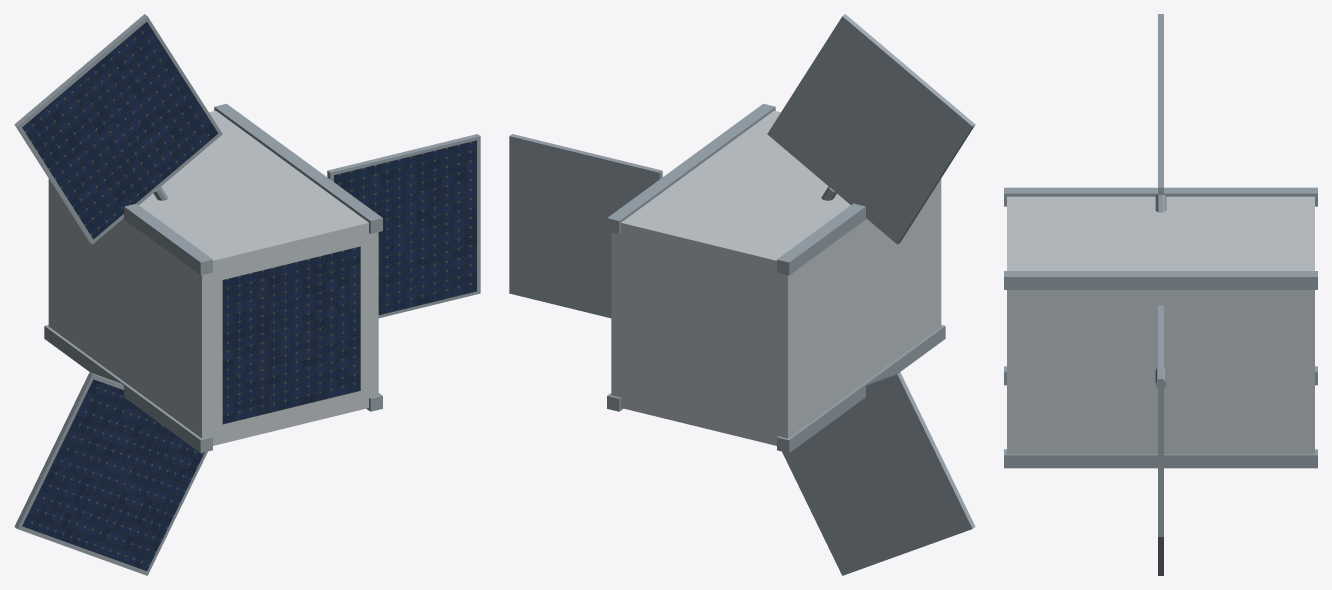
File: ref-cubesat-6u-43764.glb
3 views of the same model, side by side, from view 1: azimuth 30°, elevation 25°; view 2: azimuth 150°, elevation 25°; view 3: azimuth 270°, elevation 25° (orthographic).
Visible parts, largest first — view 1: Photovoltaic laminates (×3), Spacecraft body, Body-mounted cells, Array frame (×3), Dispenser rail (×3); view 2: Spacecraft body, Array frame (×3), Dispenser rail (×3); view 3: Spacecraft body, Dispenser rail (×3), Array frame (×2).
Part boxes in pixels (x1=…): Photovoltaic laminates (×3): x1=22, y1=22, x2=476, y2=570; Spacecraft body: x1=48, y1=110, x2=378, y2=445; Body-mounted cells: x1=222, y1=246, x2=360, y2=424; Array frame (×3): x1=14, y1=14, x2=480, y2=575; Dispenser rail (×3): x1=44, y1=103, x2=382, y2=452; Spacecraft body: x1=611, y1=110, x2=941, y2=445; Array frame (×3): x1=509, y1=14, x2=975, y2=575; Dispenser rail (×3): x1=607, y1=103, x2=945, y2=452; Spacecraft body: x1=1007, y1=196, x2=1314, y2=454; Dispenser rail (×3): x1=1004, y1=187, x2=1317, y2=468; Array frame (×2): x1=1158, y1=14, x2=1163, y2=536.
Bounding box in the file's own units: 0.5236 × 0.6046 × 0.306.
3 materials, 1 textured.
